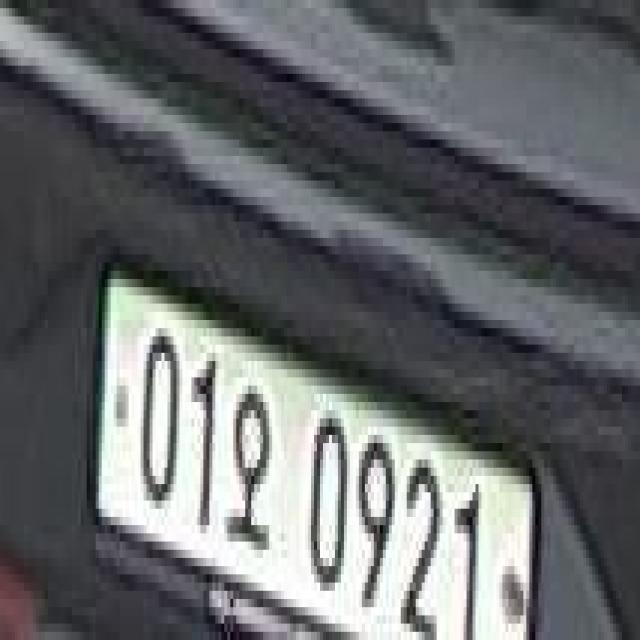illegal_plate: (90, 272, 541, 640)
